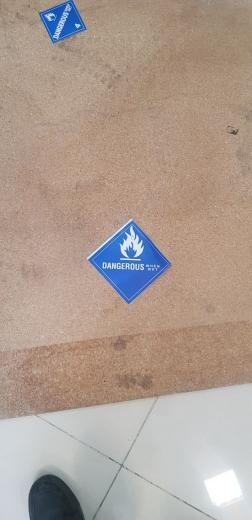Dangerous when wet: (87, 219, 171, 304), (39, 1, 86, 44)
